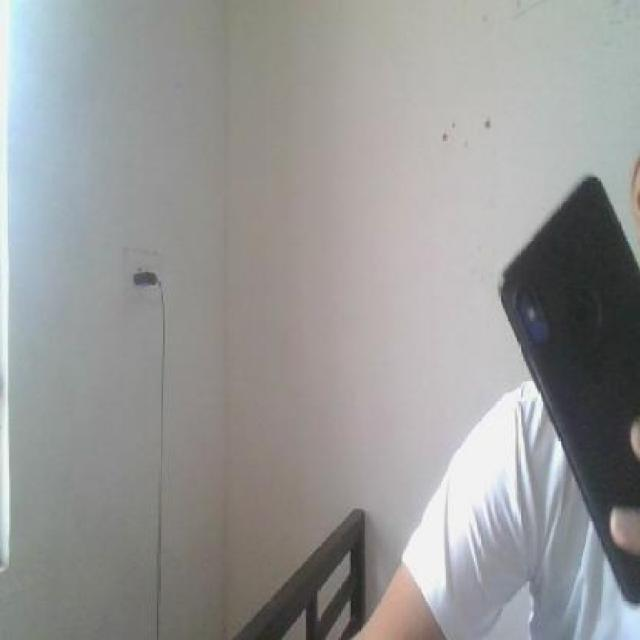Phone: (496, 171, 640, 604)
